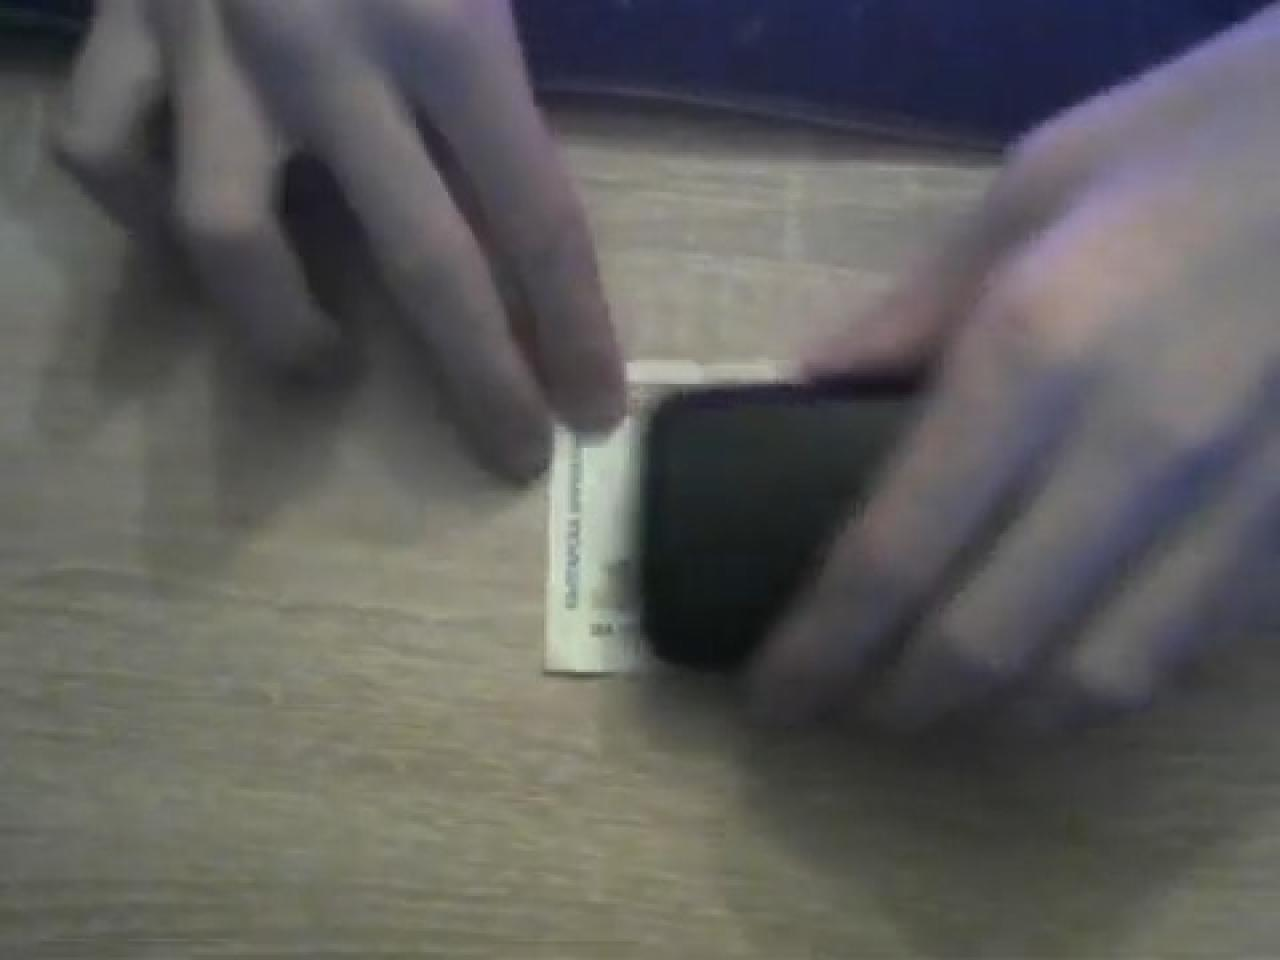10leva: (544, 389, 666, 680)
